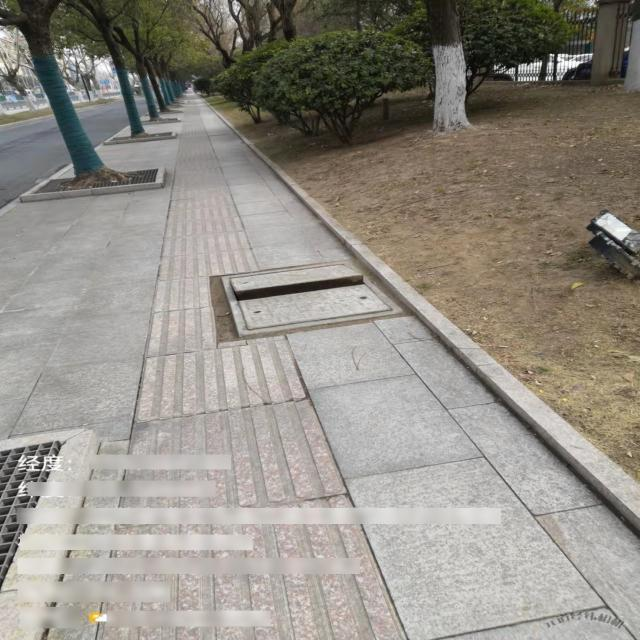Faulty: (216, 261, 400, 338)
